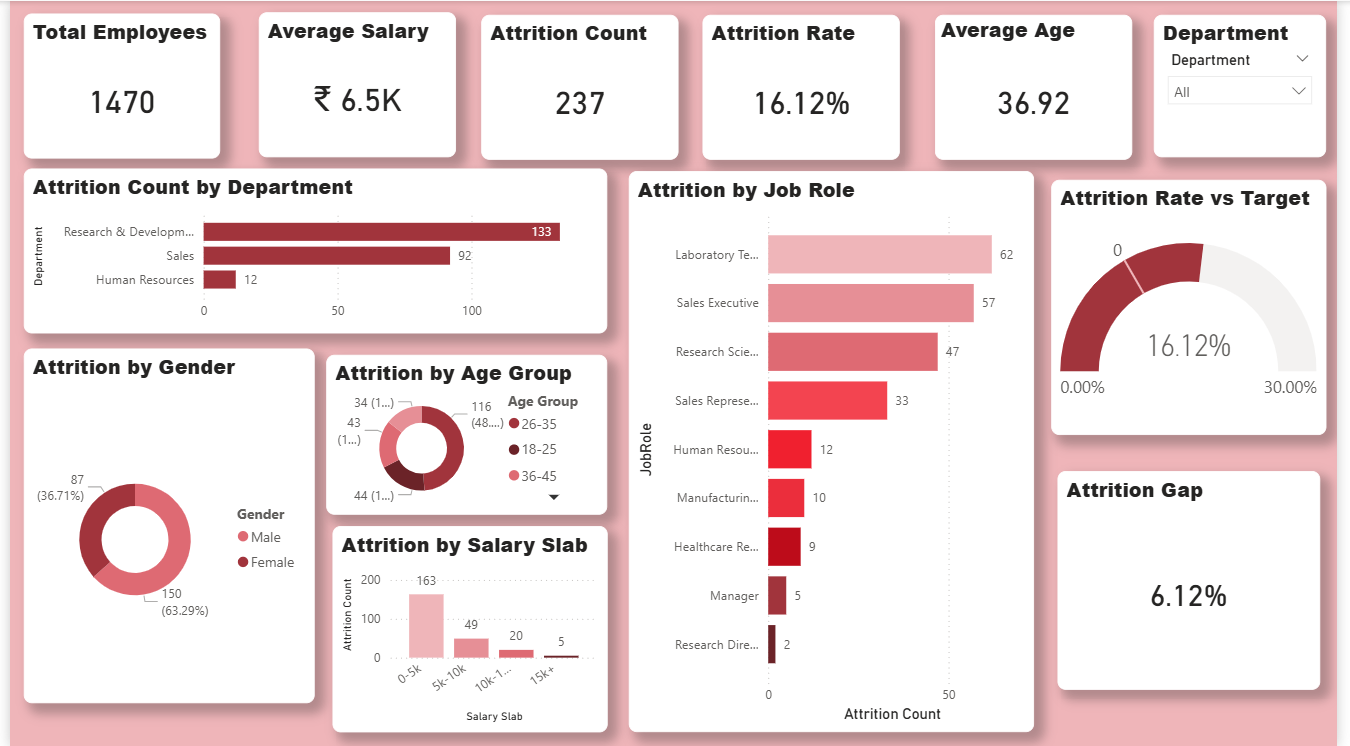

The page's visual inventory and layout, read from the dashboard file:
{"tool":"powerbi","page":{"name":"Attrition_Dashboard","canvas":[1280,720],"ordinal":0},"visuals":[{"type":"card","title":"Total Employees","fields":{"Values":["HR_Data.Total Employees"]},"box":[13.3,12.1,189.4,139.9],"z":0},{"type":"card","title":"Average Salary","fields":{"Values":["HR_Data.Average Salary"]},"box":[240.1,10.9,190.6,139.9],"z":1000},{"type":"card","title":"Attrition Count","fields":{"Values":["HR_Data.Attrition Count"]},"box":[454.8,13.3,190.6,139.9],"z":2000},{"type":"card","title":"Attrition Rate","fields":{"Values":["HR_Data.Attrition Rate"]},"box":[668.4,13.3,190.6,139.9],"z":3000},{"type":"card","title":"Average Age","fields":{"Values":["HR_Data.Average Age"]},"box":[892.8,13.3,190.6,139.9],"z":4000},{"type":"slicer","title":"Department","fields":{"Values":["HR_Data.Department"]},"box":[1103.9,13.3,166.5,137.5],"z":5000},{"type":"clusteredBarChart","fields":{"Category":["HR_Data.Department"],"Y":["HR_Data.Attrition Count"]},"box":[13.3,161.7,563.4,159.3],"z":6000},{"type":"donutChart","title":"Attrition by Gender","fields":{"Category":["HR_Data.Gender"],"Y":["HR_Data.Attrition Count"]},"box":[13.3,335.4,281.1,342.6],"z":7000},{"type":"donutChart","title":"Attrition by Age Group","fields":{"Category":["HR_Data.Age Group"],"Y":["HR_Data.Attrition Count"]},"box":[305.2,341.4,271.4,154.4],"z":8000},{"type":"clusteredColumnChart","title":"Attrition by Salary Slab","fields":{"Category":["HR_Data.Salary Slab"],"Y":["HR_Data.Attrition Count"]},"box":[311.3,506.7,265.4,199.1],"z":9000},{"type":"clusteredBarChart","title":"Attrition by Job Role","fields":{"Category":["HR_Data.JobRole"],"Y":["HR_Data.Attrition Count"]},"box":[597.2,164.1,390.9,541.7],"z":10000},{"type":"gauge","title":"Attrition Rate vs Target ","fields":{"Y":["HR_Data.Attrition Rate"],"TargetValue":["HR_Data.Target Attrition"]},"box":[1005,172.5,265.4,246.1],"z":11000},{"type":"card","title":"Attrition Gap","fields":{"Values":["HR_Data.Difference"]},"box":[1011,453.6,253.4,211.1],"z":12000}]}

Visuals, with their boxes in screenshot pixels (x1, y1, x2, y2), scaled from the page's 1280x720 canvas onto the 1350x746 screenshot:
"Total Employees" card: 14:13:214:157
"Average Salary" card: 253:11:454:156
"Attrition Count" card: 480:14:681:159
"Attrition Rate" card: 705:14:906:159
"Average Age" card: 942:14:1143:159
"Department" slicer: 1164:14:1340:156
clusteredBarChart - HR_Data.Department x HR_Data.Attrition Count: 14:168:608:333
"Attrition by Gender" donutChart: 14:348:311:702
"Attrition by Age Group" donutChart: 322:354:608:514
"Attrition by Salary Slab" clusteredColumnChart: 328:525:608:731
"Attrition by Job Role" clusteredBarChart: 630:170:1042:731
"Attrition Rate vs Target " gauge: 1060:179:1340:434
"Attrition Gap" card: 1066:470:1334:689
